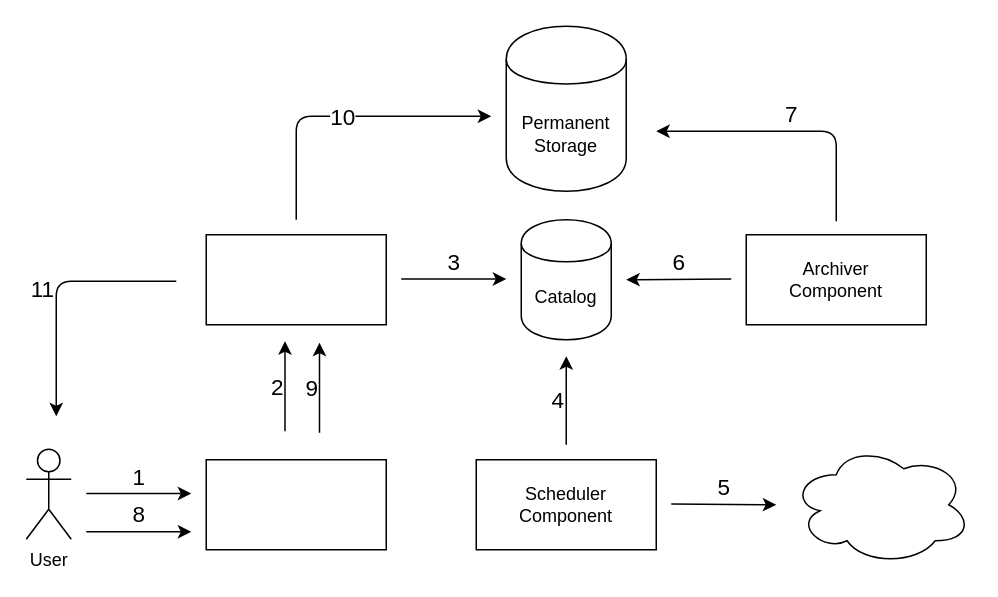
Some shapes in this 998 by 597 pixel diagram are drawn without their labels. Each missing label, with the centre of its shape:
"Dashboard Component" belongs at point 295,504.
"Dispatcher Component" belongs at point 295,279.
"Job Scheduler Service" belongs at point 880,504.
